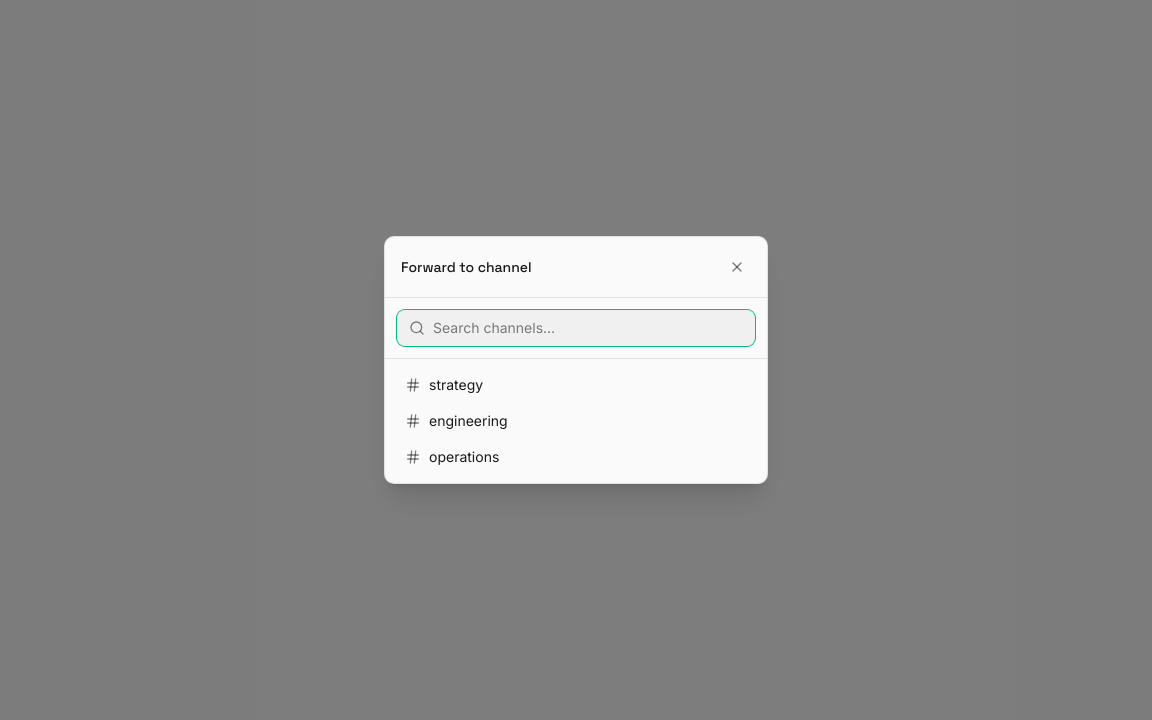
Test: ForwardModal › shows empty state when no channels match search
The width and height of the screenshot is (1152, 720).
In the field with placeholder "Search channels...": (576, 328) [397, 310, 755, 346], type "nonexistent"
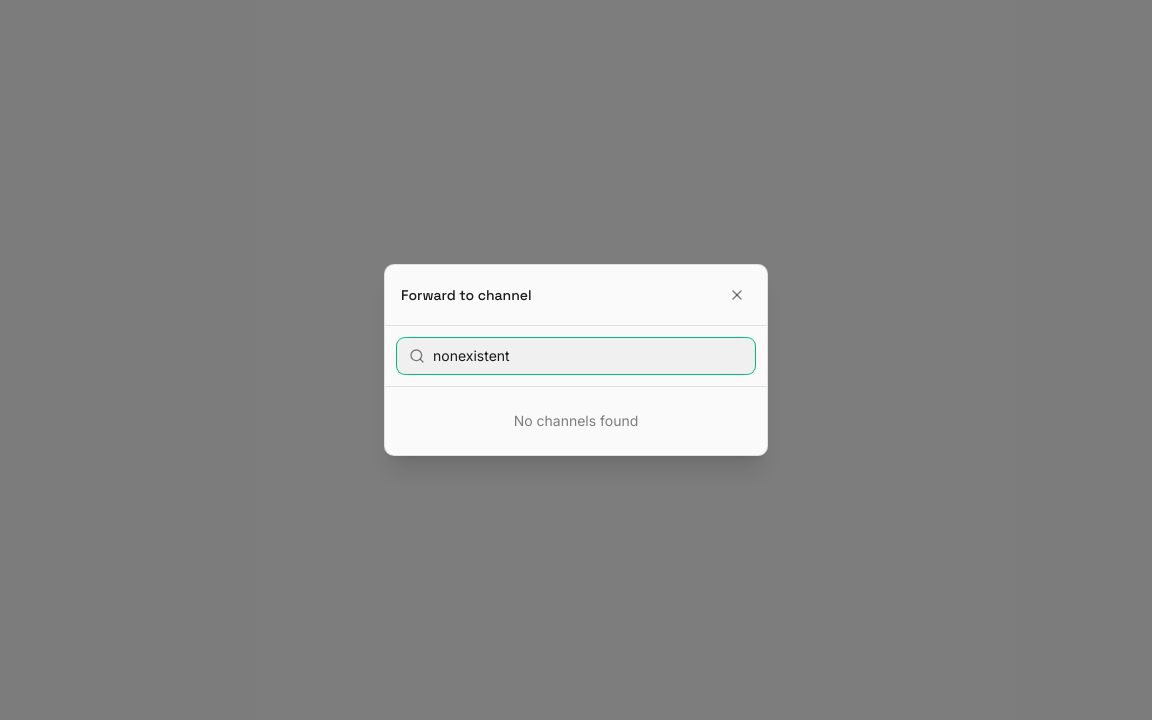
Expected: the text "No channels found" is shown, [514, 412, 638, 429]
